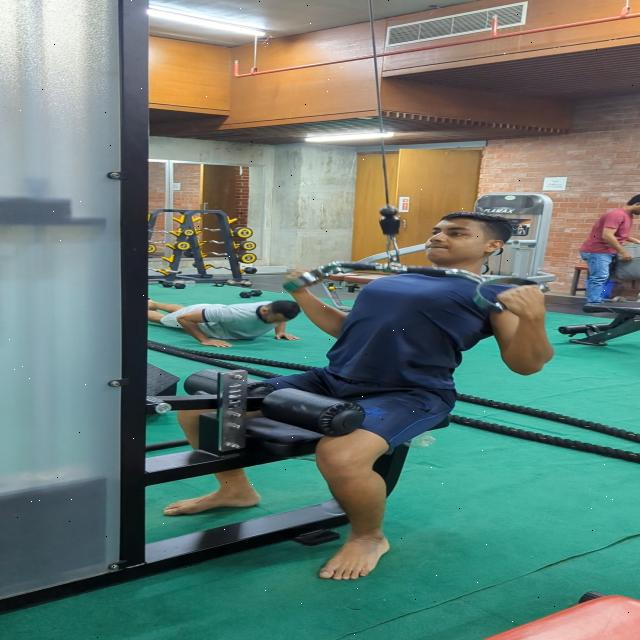Normal_LatPulldown: (163, 185, 569, 588)
